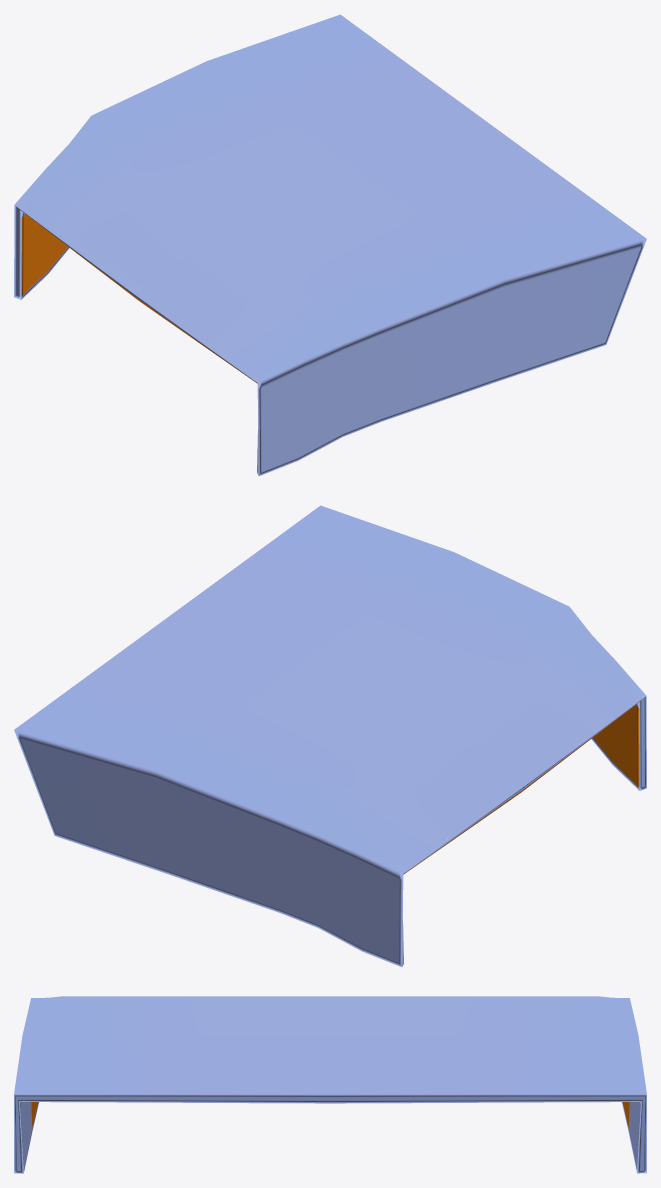
The model's file is CapoCarro.fbx.
The picture shows the model from 3 angles, top to bottom: view 1: azimuth 30°, elevation 25°; view 2: azimuth 150°, elevation 25°; view 3: azimuth 270°, elevation 25°; orthographic projection. The views are drawn at different scales.
Parts seen in each view (by area): view 1: CapoCarro; view 2: CapoCarro; view 3: CapoCarro.
Part boxes in pixels (x1,y1,x2,y2): CapoCarro: (14,14,646,476); CapoCarro: (14,505,646,967); CapoCarro: (14,996,646,1173).
Bounding box in the file's own units: 86.37 × 39.86 × 128.
